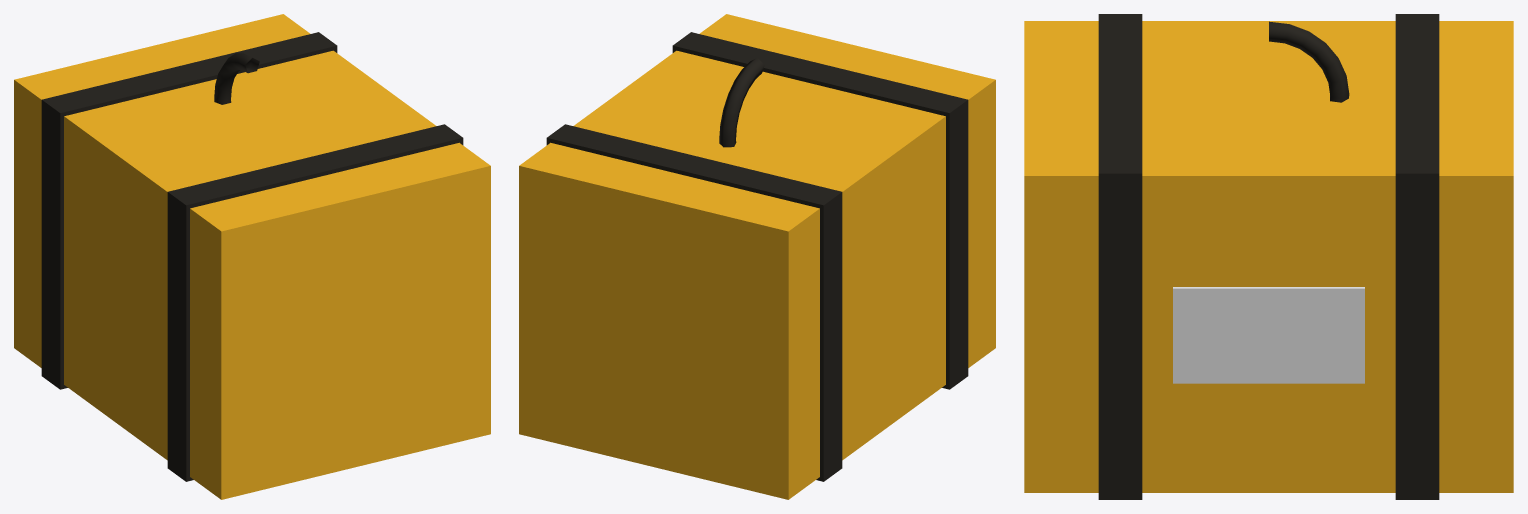
The model's file is raft_pack.obj.
The picture shows the model from 3 angles, left to right: view 1: azimuth 30°, elevation 25°; view 2: azimuth 150°, elevation 25°; view 3: azimuth 270°, elevation 25°; orthographic projection. The views are drawn at different scales.
Parts seen in each view (by area): view 1: raft_pack; view 2: raft_pack; view 3: raft_pack.
Part boxes in pixels (bbox=[...]): raft_pack: bbox=[14, 14, 490, 499]; raft_pack: bbox=[519, 14, 995, 499]; raft_pack: bbox=[1024, 14, 1513, 499].
Bounding box in the file's own units: 0.432 × 0.503 × 0.56.
